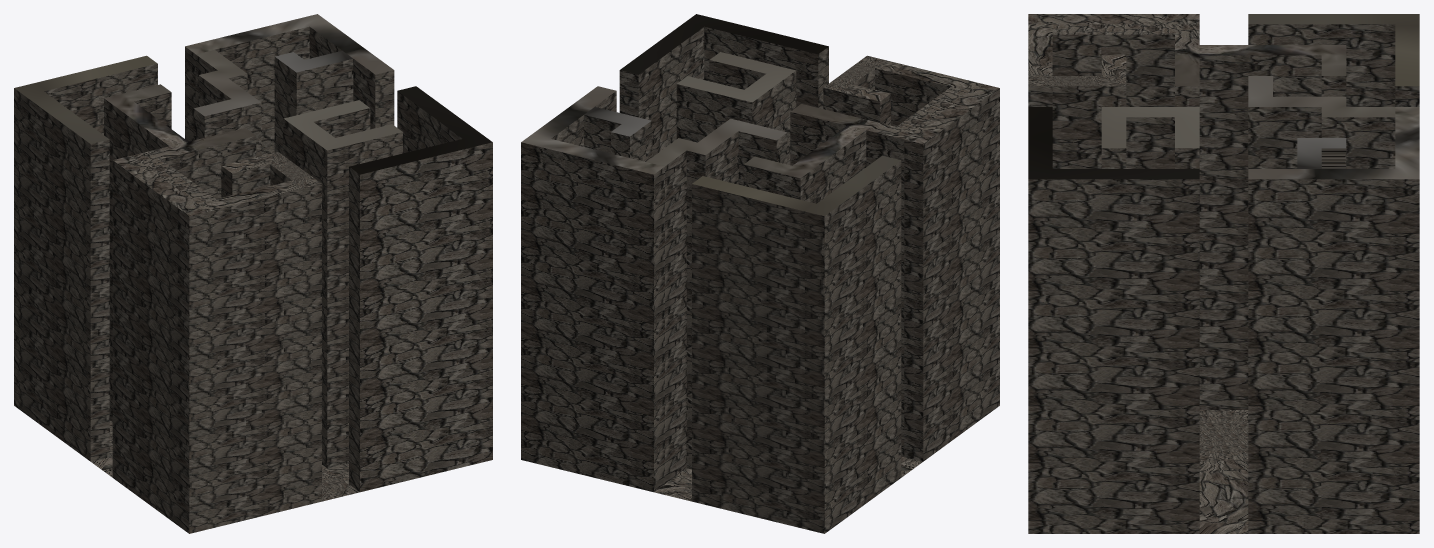
File: AllWayTempTile1.fbx
The picture shows the model from 3 angles, left to right: view 1: azimuth 30°, elevation 25°; view 2: azimuth 150°, elevation 25°; view 3: azimuth 270°, elevation 25°; orthographic projection. The views are drawn at different scales.
Parts seen in each view (by area): view 1: Plane; view 2: Plane; view 3: Plane.
Part boxes in pixels (x1,y1,x2,y2): Plane: (14, 14, 492, 533); Plane: (521, 14, 999, 533); Plane: (1028, 14, 1419, 533).
Size of the model in its own units: 1600 by 1600 by 1600.
